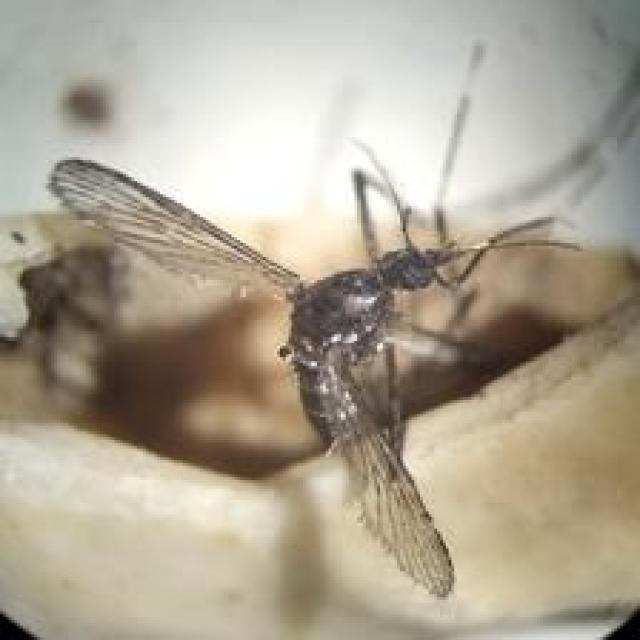Aedes albopictus: (44, 40, 584, 600)
